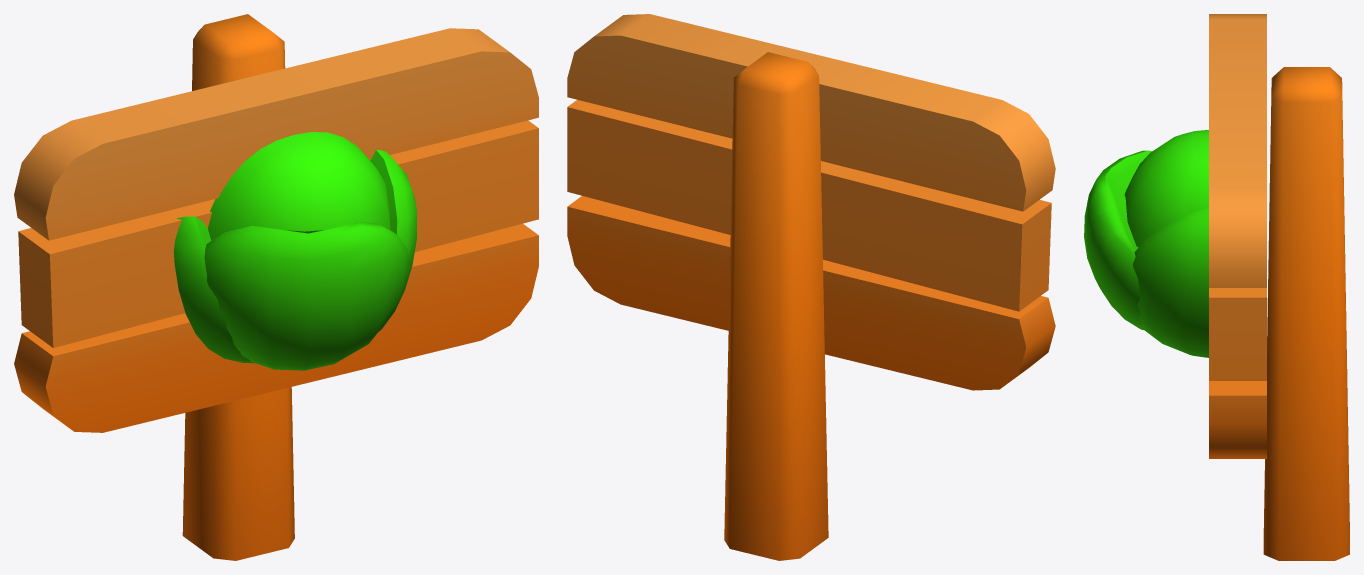
The model's file is Farm_Crop_Sign_Cabbage_01.fbx.
3 views of the same model, side by side, from view 1: azimuth 30°, elevation 25°; view 2: azimuth 150°, elevation 25°; view 3: azimuth 270°, elevation 25° (orthographic). The views are drawn at different scales.
Visible parts, largest first — view 1: Farm_Crop_Sign_Cabbage_01; view 2: Farm_Crop_Sign_Cabbage_01; view 3: Farm_Crop_Sign_Cabbage_01.
Part boxes in pixels (left/top/right/bottom): Farm_Crop_Sign_Cabbage_01: left=14, top=14, right=538, bottom=560; Farm_Crop_Sign_Cabbage_01: left=567, top=14, right=1055, bottom=560; Farm_Crop_Sign_Cabbage_01: left=1084, top=14, right=1349, bottom=560.
Size of the model in its own units: 90.11 by 88.8 by 45.92.
